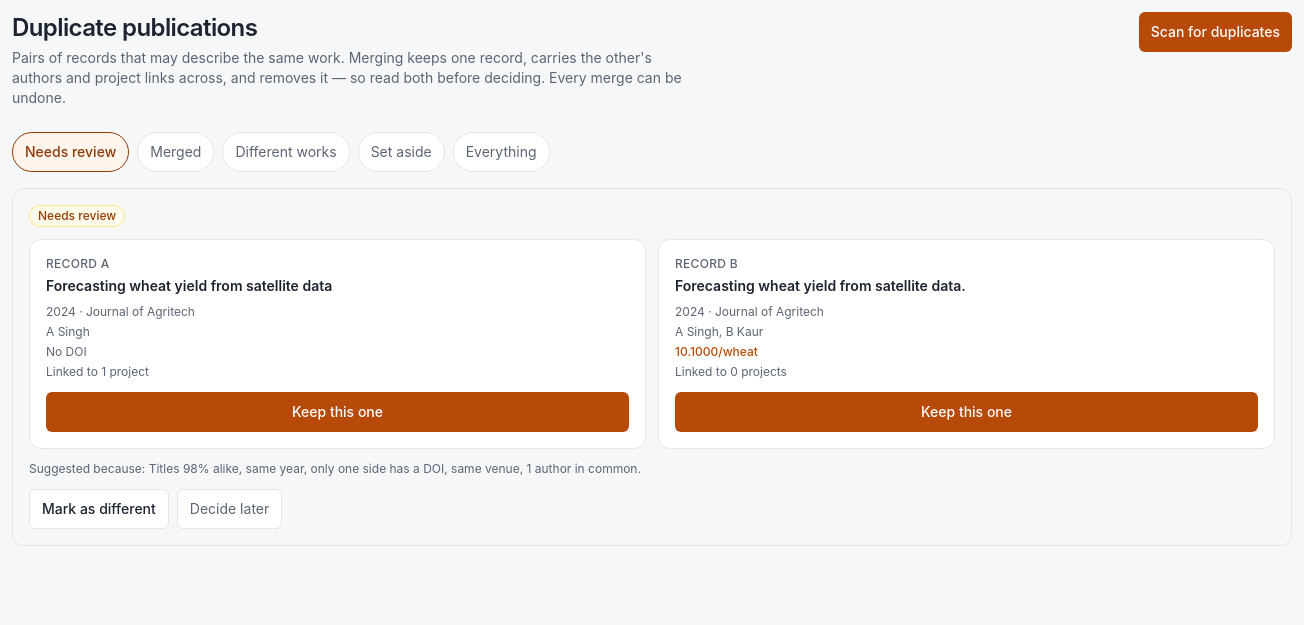
Test: DuplicateQueuePage › reports what a scan examined and found
Click the button "Scan for duplicates": point(1215, 32) left=1139, top=12, right=1292, bottom=52
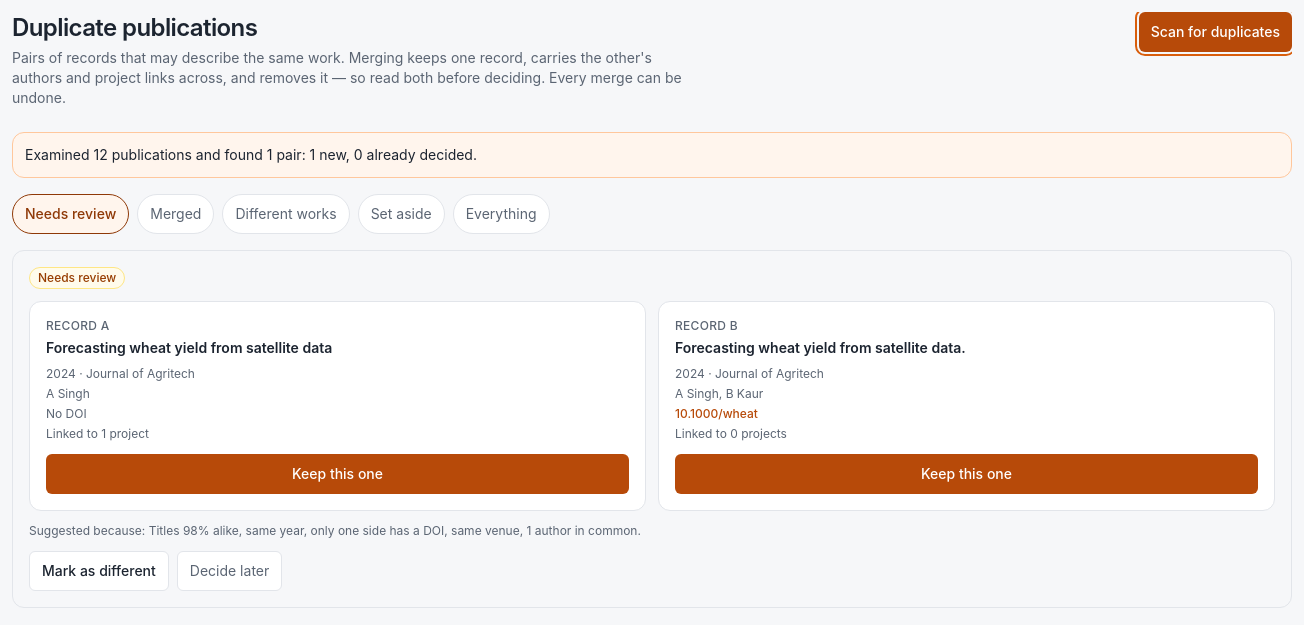
expect the text "Examined 12 publications" is shown: met, box left=12, top=132, right=1292, bottom=178
